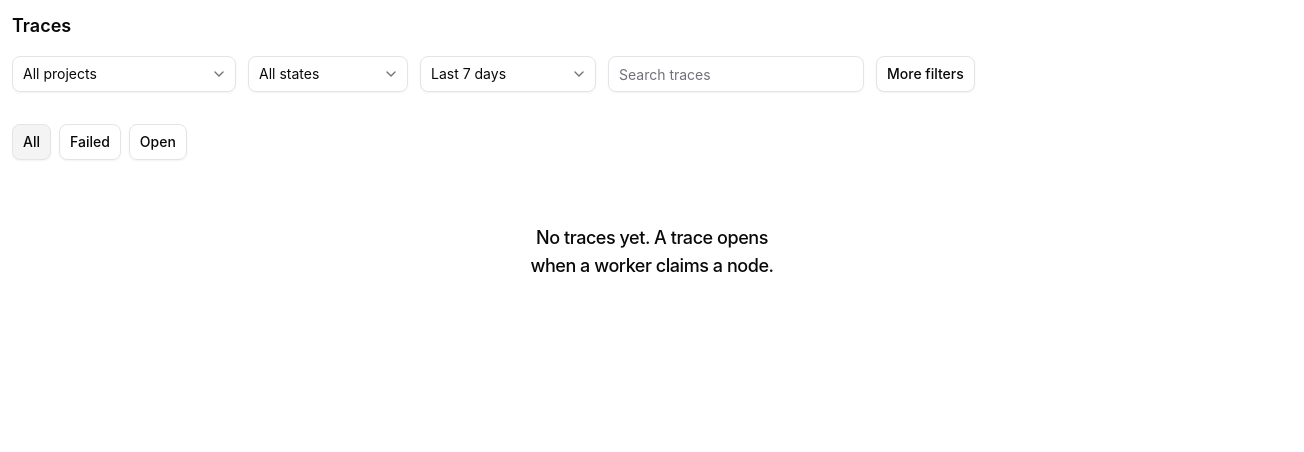
Test: TracesScreen › lists the cause categories of the facets with their labels
Click the button "More filters": x=925, y=74 left=876, top=56, right=975, bottom=92
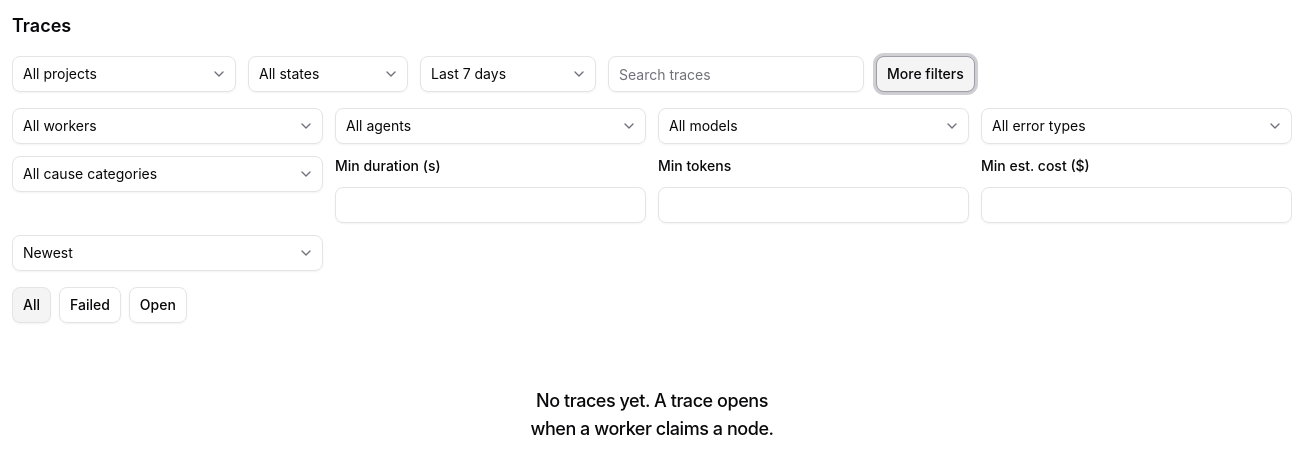
Click the dropdown named "Cause category": x=90, y=174 left=12, top=156, right=323, bottom=192
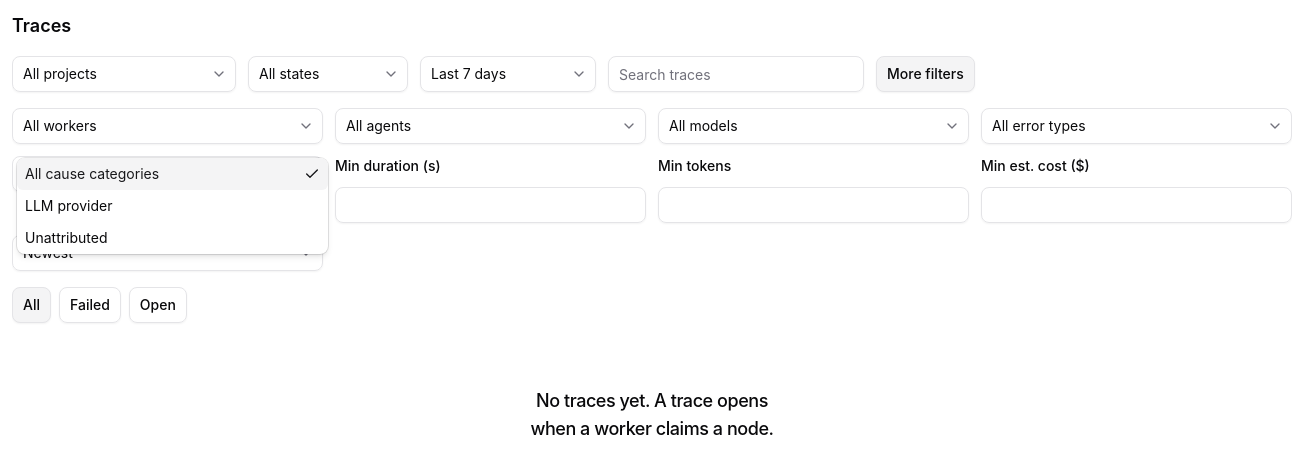
Expected: the options read "All cause categories", "LLM provider", "Unattributed", in this order, left=17, top=158, right=328, bottom=190; left=25, top=197, right=112, bottom=214; left=25, top=229, right=108, bottom=246
